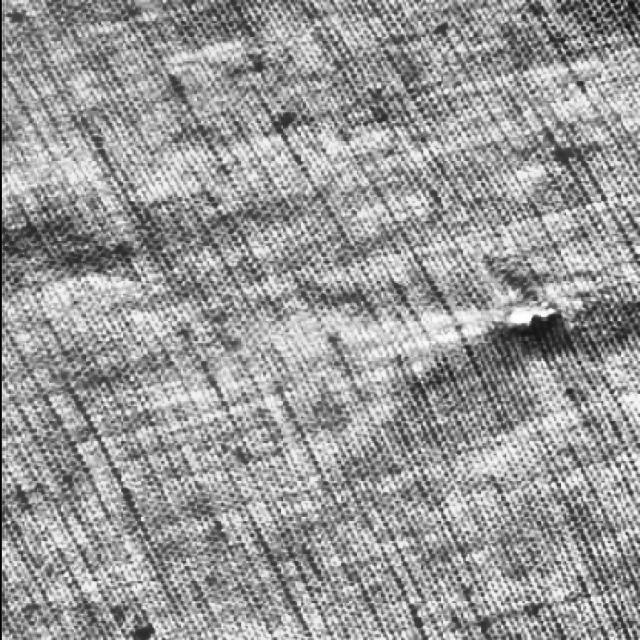hole: (492, 299, 564, 337)
